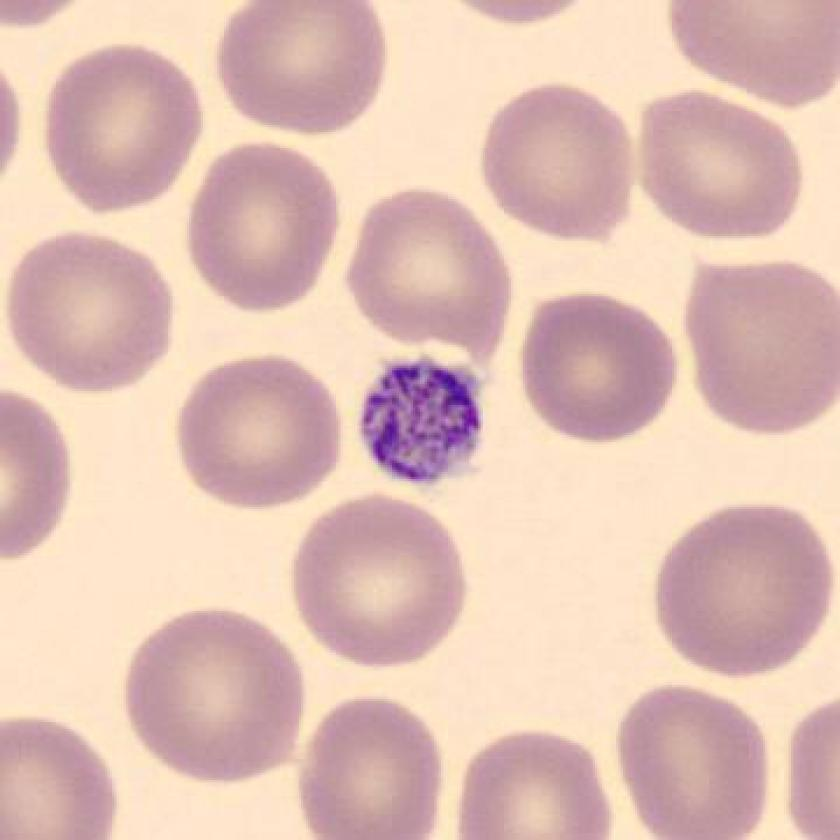platelets: (349, 344, 493, 496)
